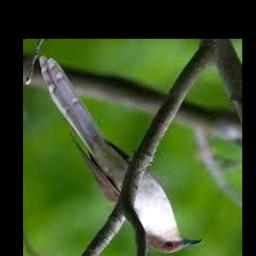Cuckoo: (39, 56, 203, 253)
